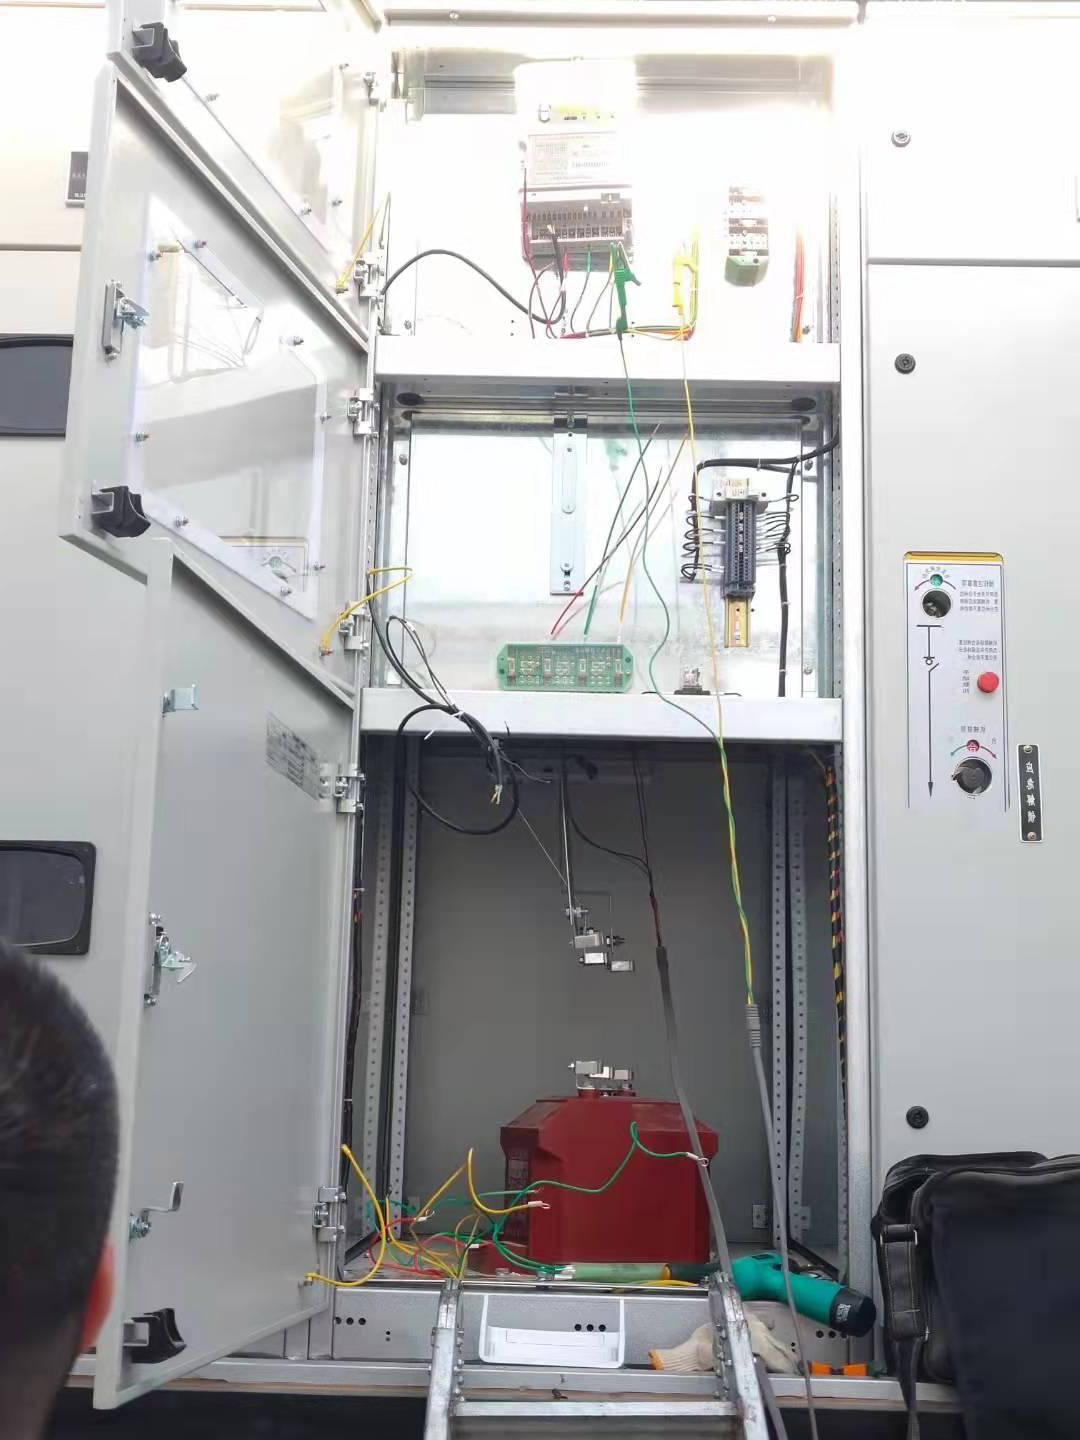digital: (518, 58, 634, 202)
